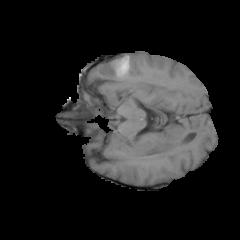glioma: (90, 53, 137, 87)
